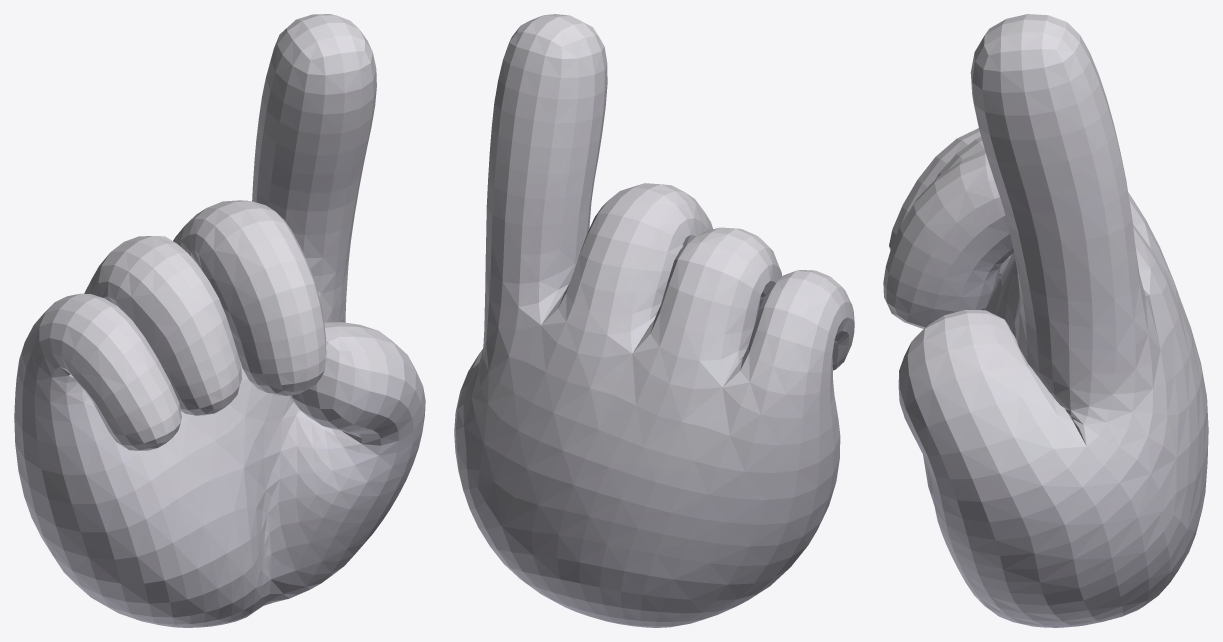
File: cartoon-pointing-hand.fbx
3 renders of one model, left to right at view 1: azimuth 30°, elevation 25°; view 2: azimuth 150°, elevation 25°; view 3: azimuth 270°, elevation 25°, orthographic. The views are drawn at different scales.
Parts seen in each view (by area): view 1: CartoonPointingHand_CartoonPointingHand_0; view 2: CartoonPointingHand_CartoonPointingHand_0; view 3: CartoonPointingHand_CartoonPointingHand_0.
Part boxes in pixels (box(x1,y1,x2,y2)): CartoonPointingHand_CartoonPointingHand_0: box(14, 14, 425, 627); CartoonPointingHand_CartoonPointingHand_0: box(454, 14, 854, 627); CartoonPointingHand_CartoonPointingHand_0: box(883, 14, 1208, 627).
Size of the model in its own units: 50.39 by 74.09 by 34.46.
